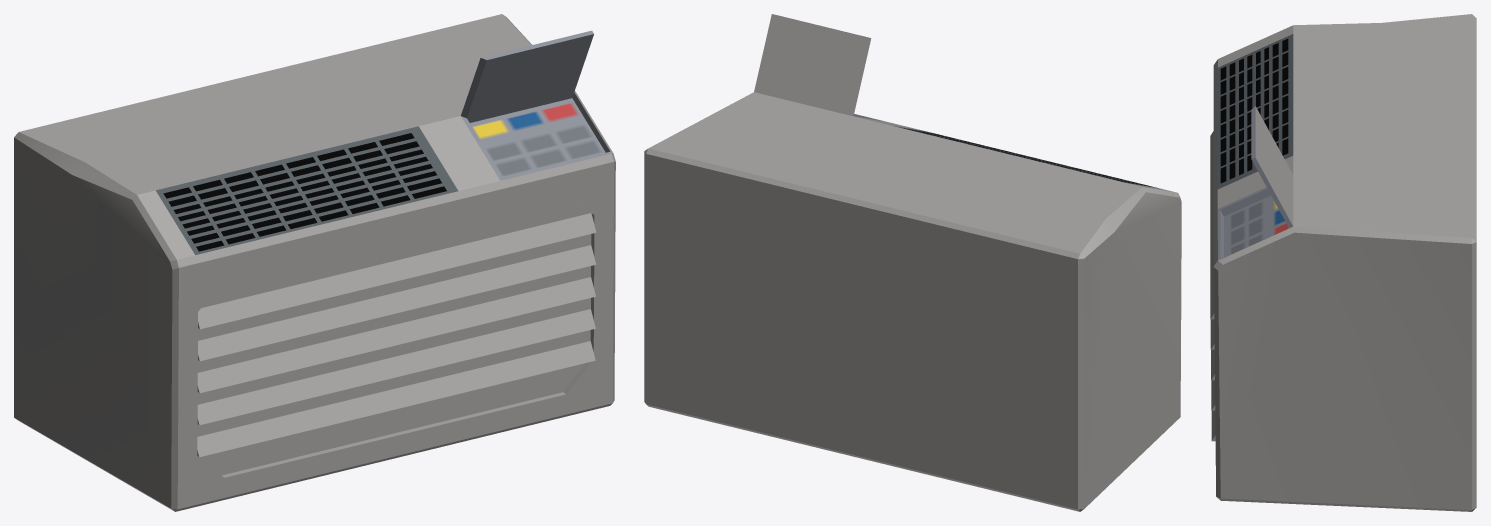
The model's file is SM_AC_Unit.fbx.
3 renders of one model, left to right at view 1: azimuth 30°, elevation 25°; view 2: azimuth 150°, elevation 25°; view 3: azimuth 270°, elevation 25°, orthographic. The views are drawn at different scales.
Parts seen in each view (by area): view 1: SM_AC_Unit; view 2: SM_AC_Unit; view 3: SM_AC_Unit.
Part boxes in pixels (x1,y1,x2,y2): SM_AC_Unit: [14, 14, 615, 511]; SM_AC_Unit: [644, 14, 1181, 511]; SM_AC_Unit: [1210, 14, 1476, 511].
Bounding box in the file's own units: 83.85 × 58.85 × 41.33.
